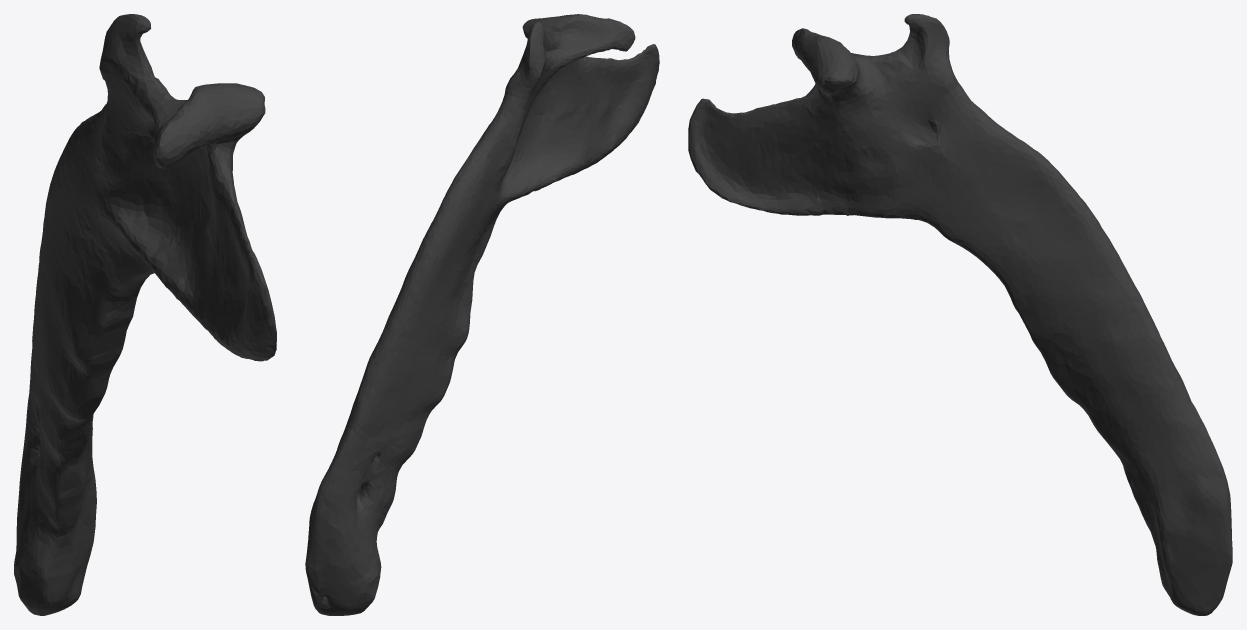
Rendered from MANDIBLE.glb.
3 views of the same model, side by side, from view 1: azimuth 30°, elevation 25°; view 2: azimuth 150°, elevation 25°; view 3: azimuth 270°, elevation 25° (orthographic). The views are drawn at different scales.
Parts seen in each view (by area): view 1: MANDIBLE; view 2: MANDIBLE; view 3: MANDIBLE.
Part boxes in pixels (<box>): MANDIBLE: <box>14,14,276,615</box>; MANDIBLE: <box>305,14,659,615</box>; MANDIBLE: <box>688,14,1232,615</box>.
Bounding box in the file's own units: 0.38 × 1.43 × 1.25.
Materials: 1 (1 with a texture image).
